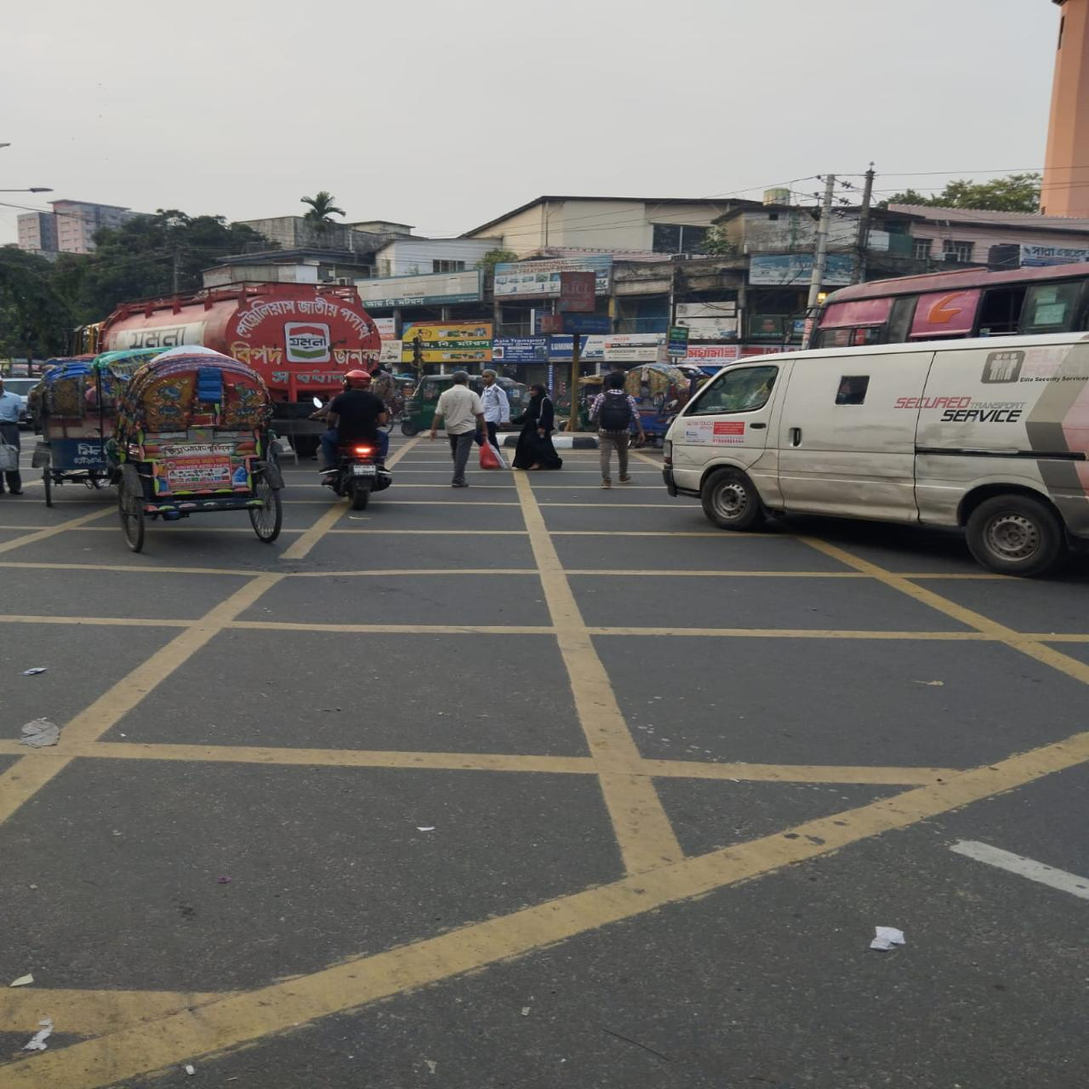person: (432, 371, 494, 488), (588, 372, 637, 490), (515, 383, 565, 472), (0, 373, 28, 500), (480, 370, 510, 451)
